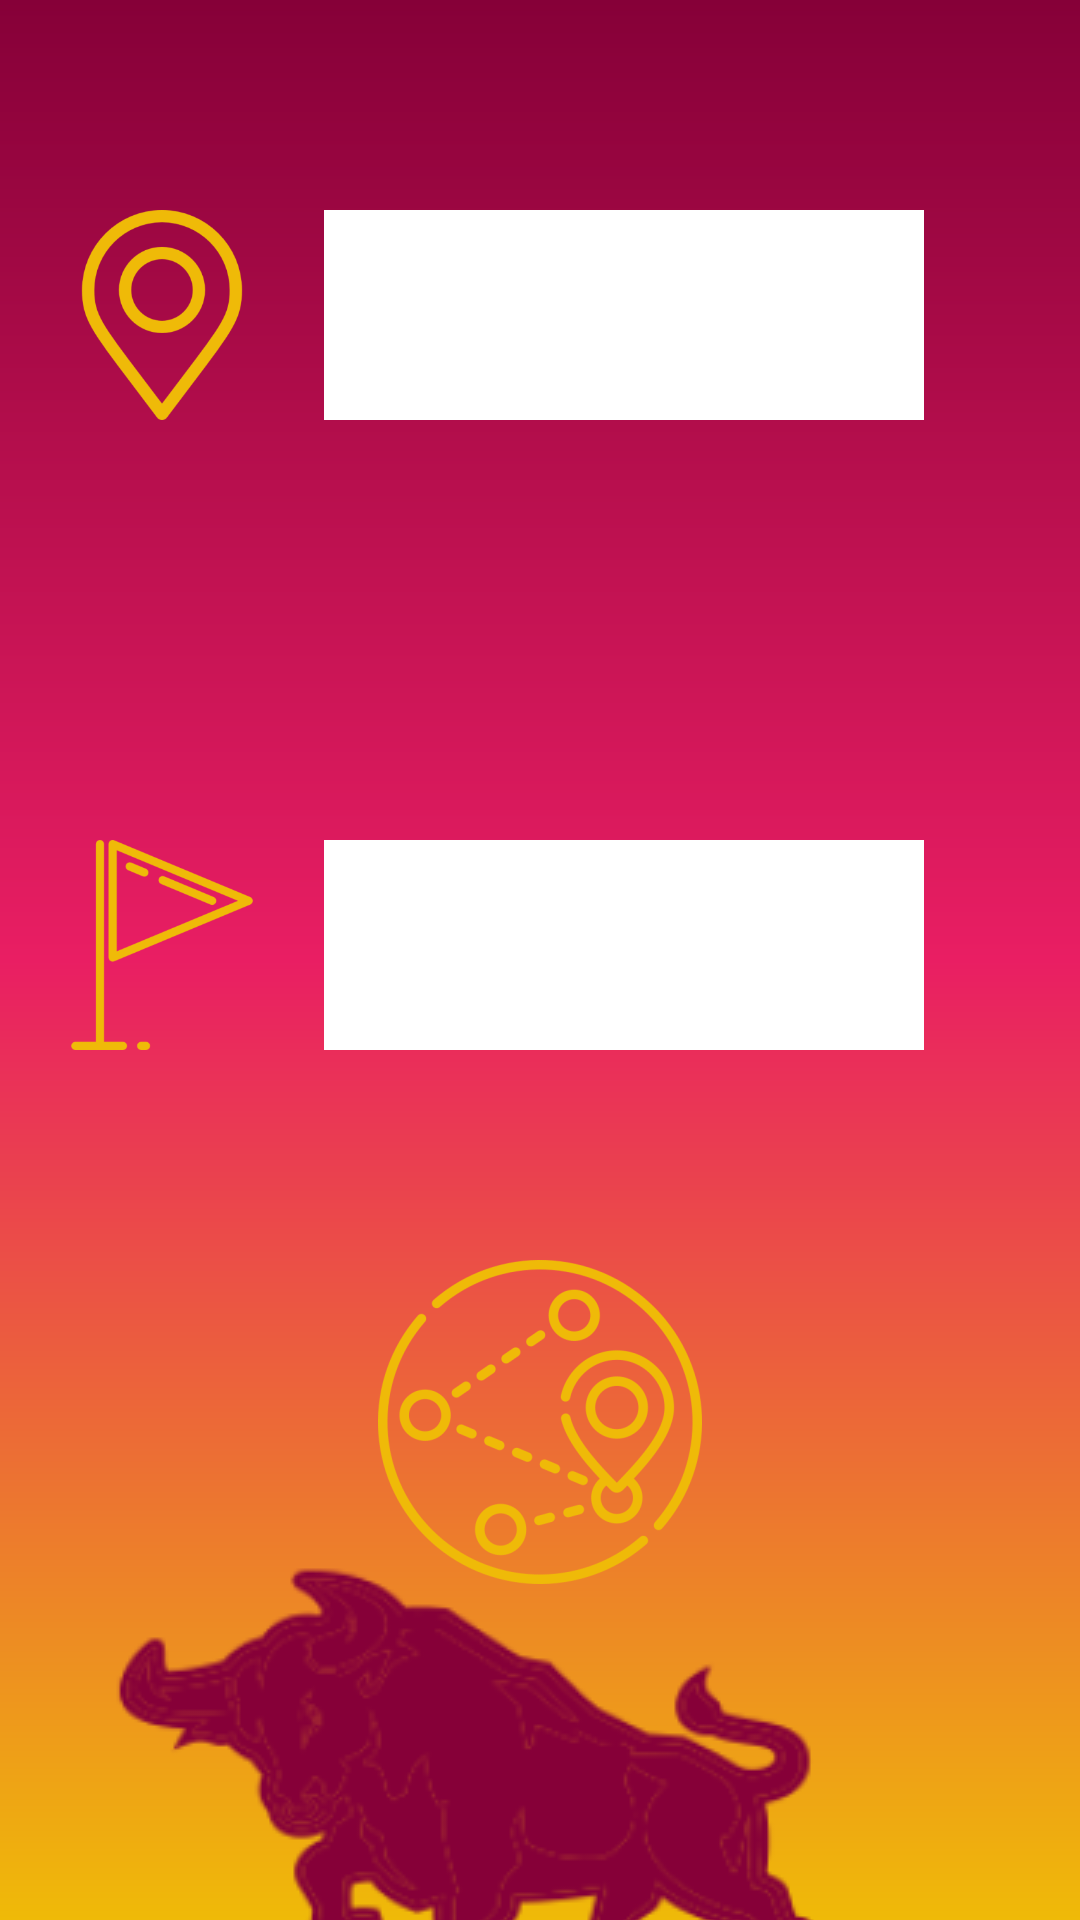

Point at icon controls on the screen. Image size 1080*1920, points as (x=x, y=y).
finish: (x=162, y=945)
run: (x=540, y=1422)
start: (x=162, y=315)
